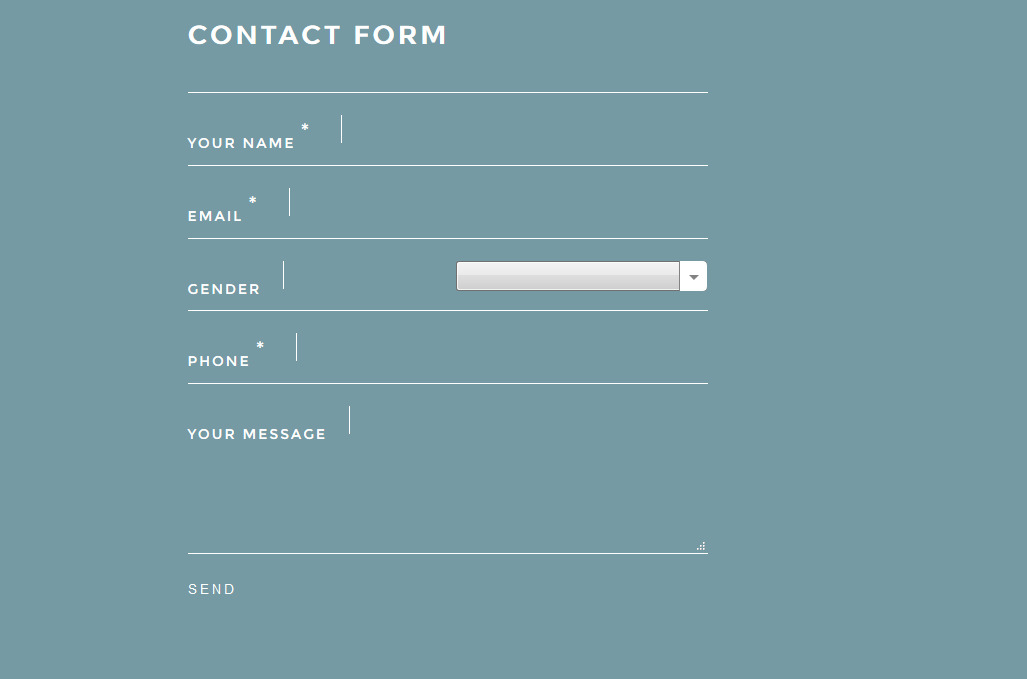_form_: (157, 77, 719, 439), (162, 252, 724, 614)
field: (182, 402, 709, 555)
field_line: (184, 112, 710, 172), (183, 328, 708, 388), (182, 185, 712, 240)
select: (455, 260, 711, 293)
